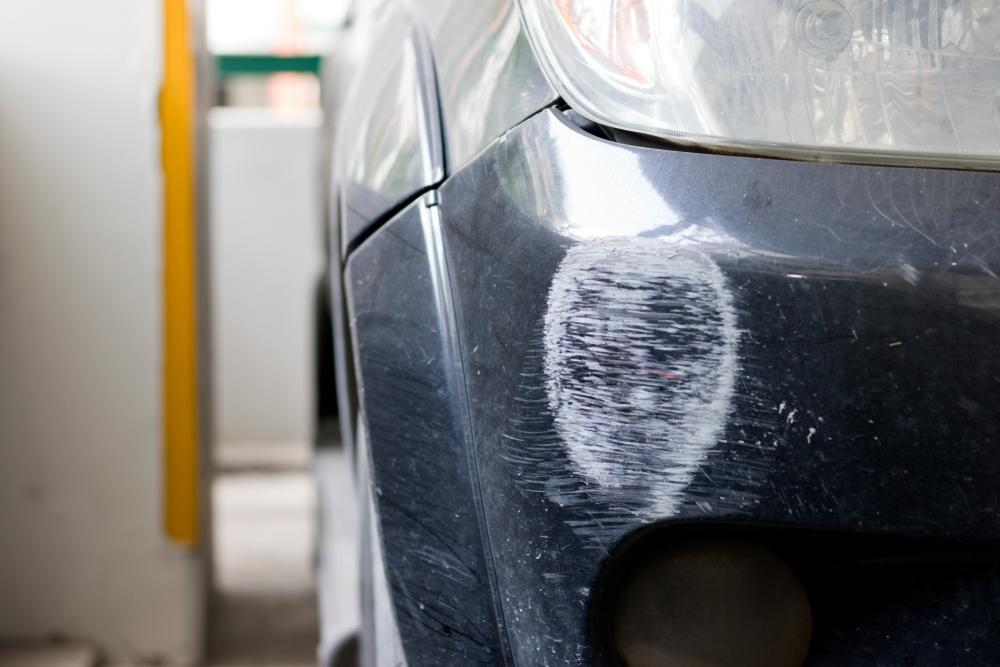scratch: (507, 222, 780, 561)
